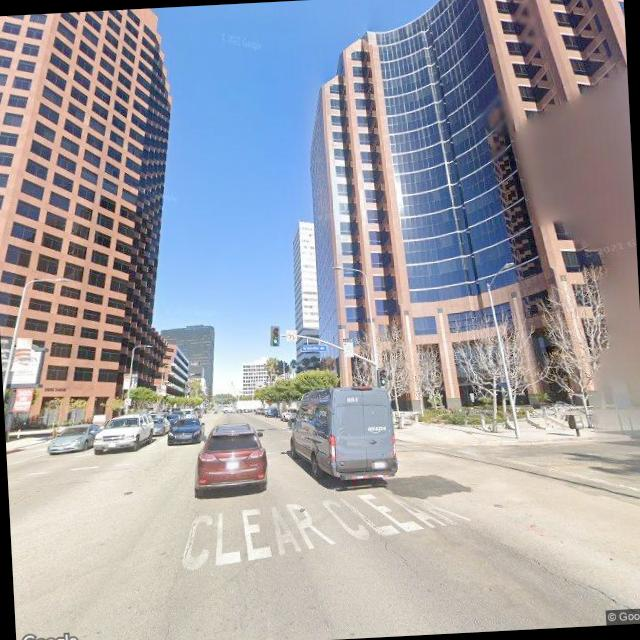pothole: (526, 550, 636, 612), (357, 502, 414, 572)
